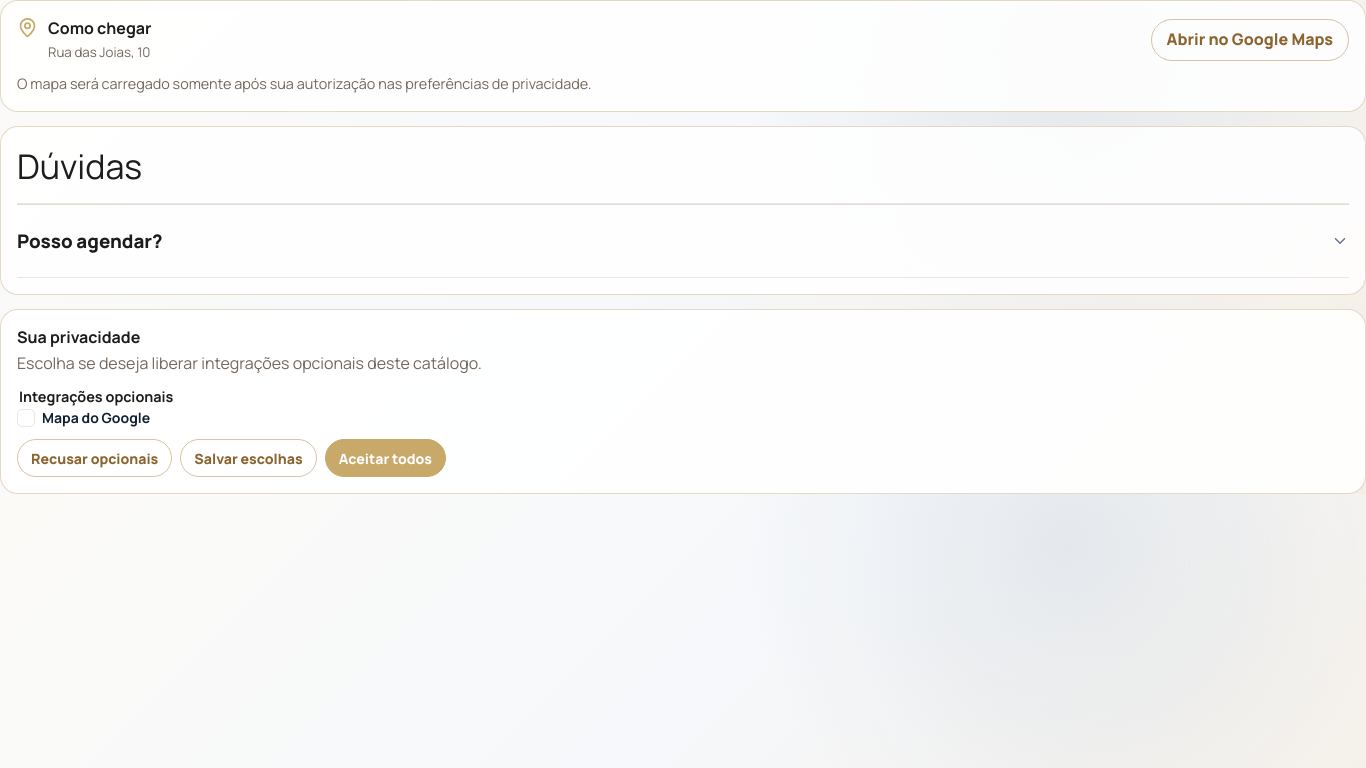
Test: CatalogNativePlugins › mantém Maps como link até o visitante consentir e renderiza FAQ como conteúdo de texto
Check: the text "Sua privacidade" is shown, box [17,326,140,348]
Click the button "Posso agendar?" at (90, 241), box [17,217,1349,265]
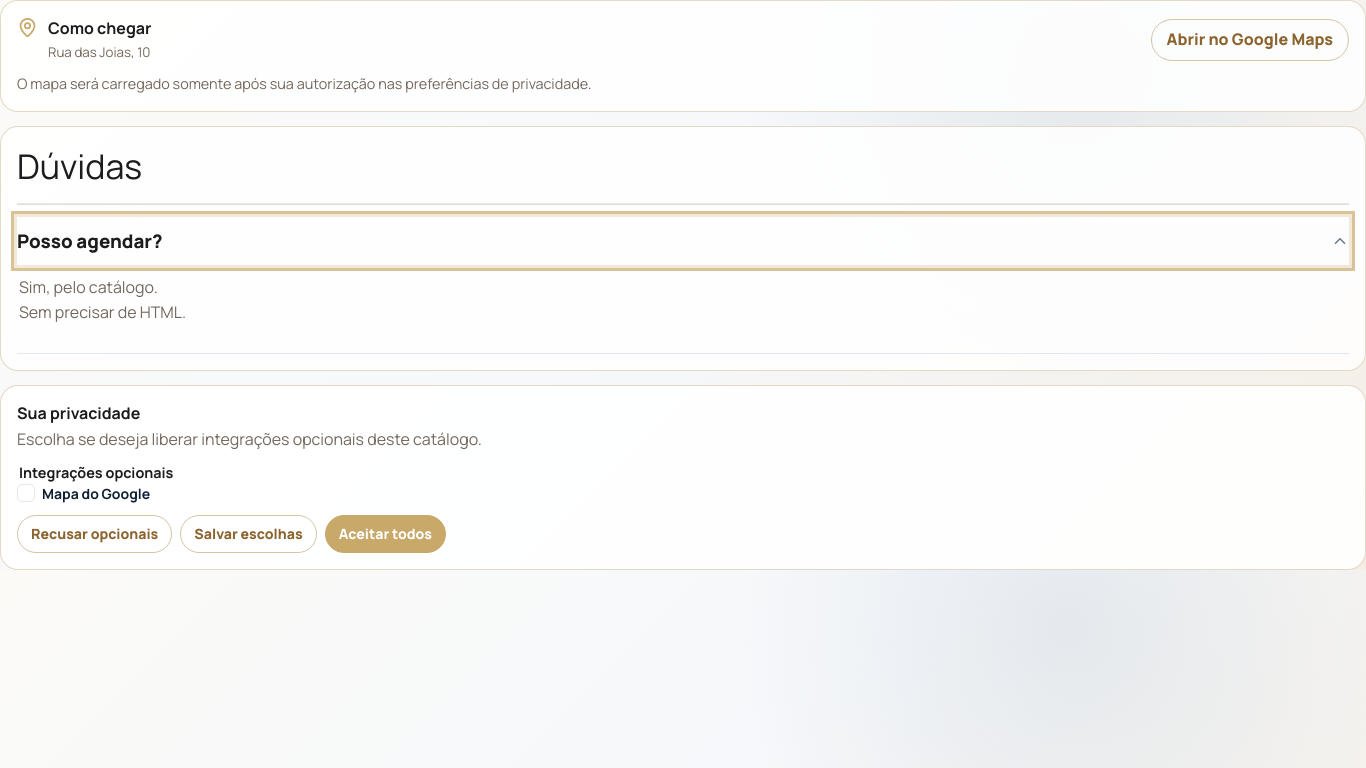
Check: the text "Sim, pelo catálogo. Sem precisar de HTML." is shown, box [19,276,186,323]
